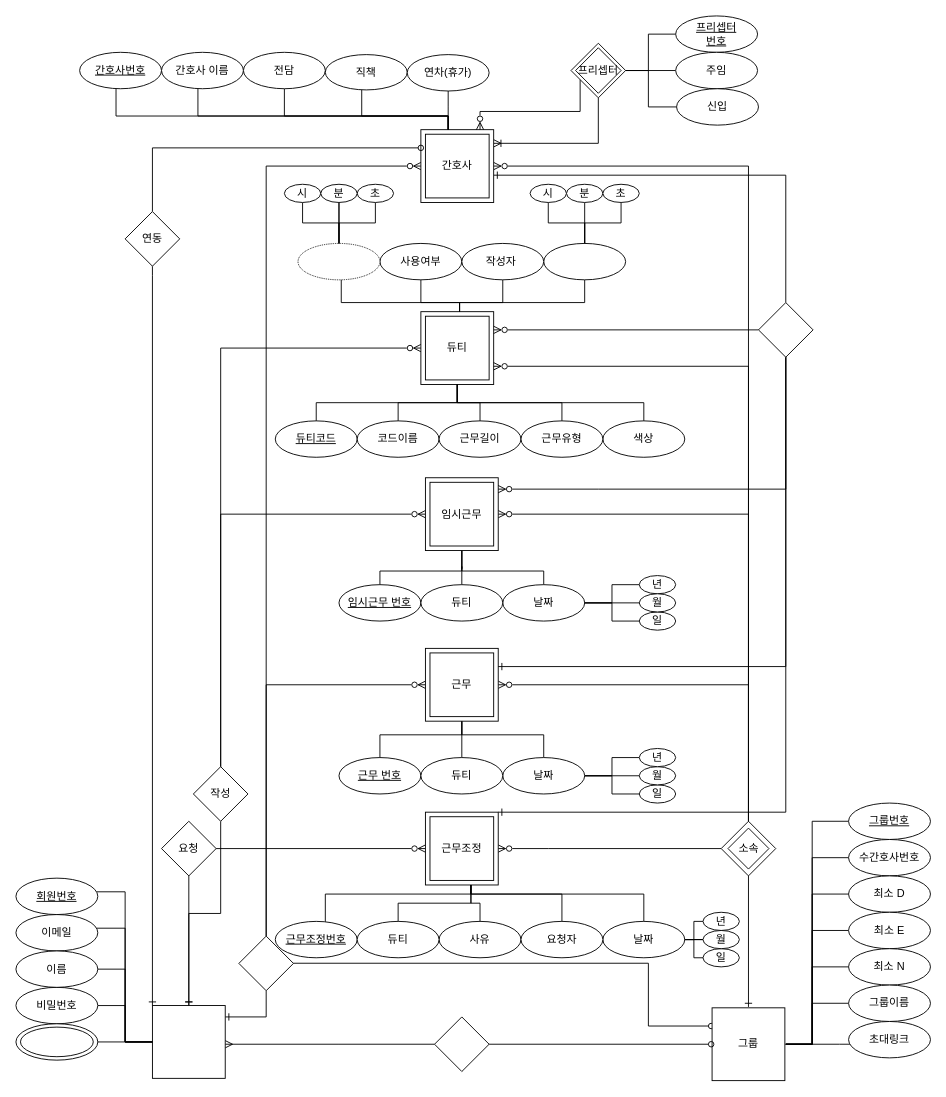
The diagram is 946 pixels wide and 1097 high, and some of its shapes have lost their labels. The box of each missing label's shape, as (x1, y1, x2, y2) in pixels:
근무시작시간: (543, 243, 626, 280)
근무종료시간: (297, 243, 380, 280)
사용: (758, 302, 813, 357)
생성: (238, 935, 293, 991)
전화번호: (20, 1026, 93, 1057)
참여: (434, 1016, 489, 1072)
회원: (152, 1005, 225, 1078)
